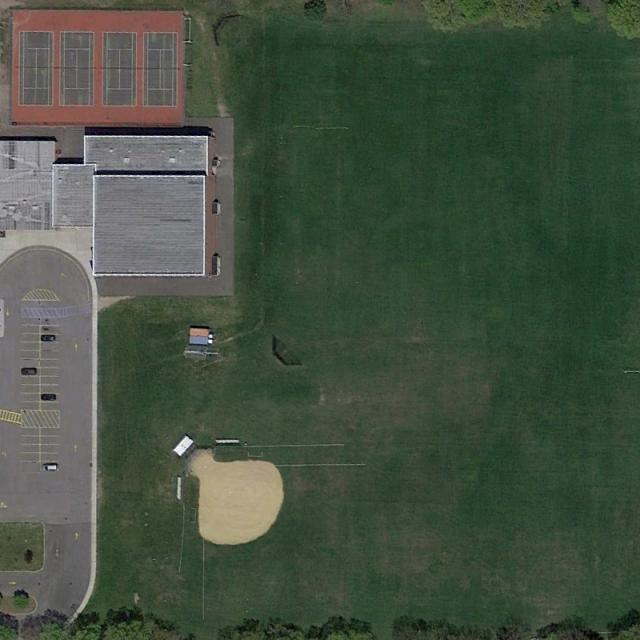vehicle: (40, 334, 57, 341), (40, 394, 57, 401), (21, 369, 38, 374), (42, 465, 58, 470)
